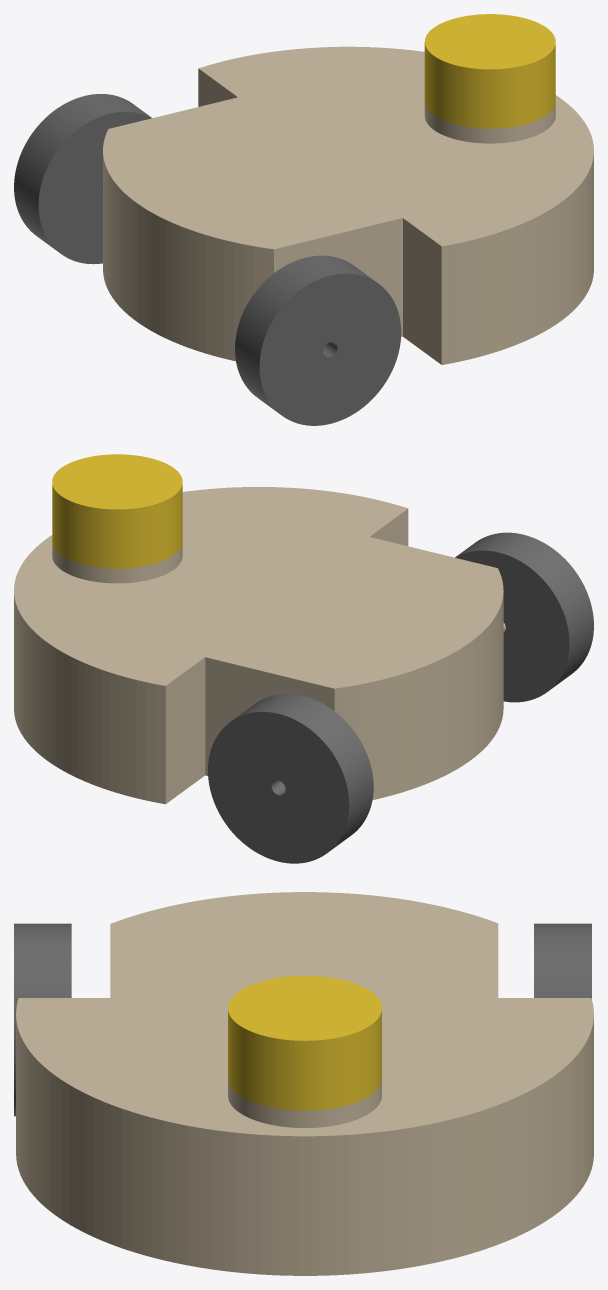
Rendered from differential_drive_bot.glb.
3 renders of one model, top to bottom at view 1: azimuth 30°, elevation 25°; view 2: azimuth 150°, elevation 25°; view 3: azimuth 270°, elevation 25°, orthographic. The views are drawn at different scales.
Parts seen in each view (by area): view 1: Node1, Node2, Node4; view 2: Node1, Node2, Node4; view 3: Node1, Node4, Node2.
Boxes of the visible parts, x1=… form: Node1: x1=102, y1=46, x2=593, y2=364; Node2: x1=14, y1=94, x2=401, y2=425; Node4: x1=424, y1=14, x2=555, y2=128; Node1: x1=14, y1=487, x2=505, y2=804; Node2: x1=208, y1=532, x2=593, y2=863; Node4: x1=52, y1=454, x2=182, y2=568; Node1: x1=16, y1=892, x2=593, y2=1275; Node4: x1=228, y1=975, x2=381, y2=1110; Node2: x1=14, y1=923, x2=591, y2=1116.
Size of the model in its own units: 150 by 75 by 151.
